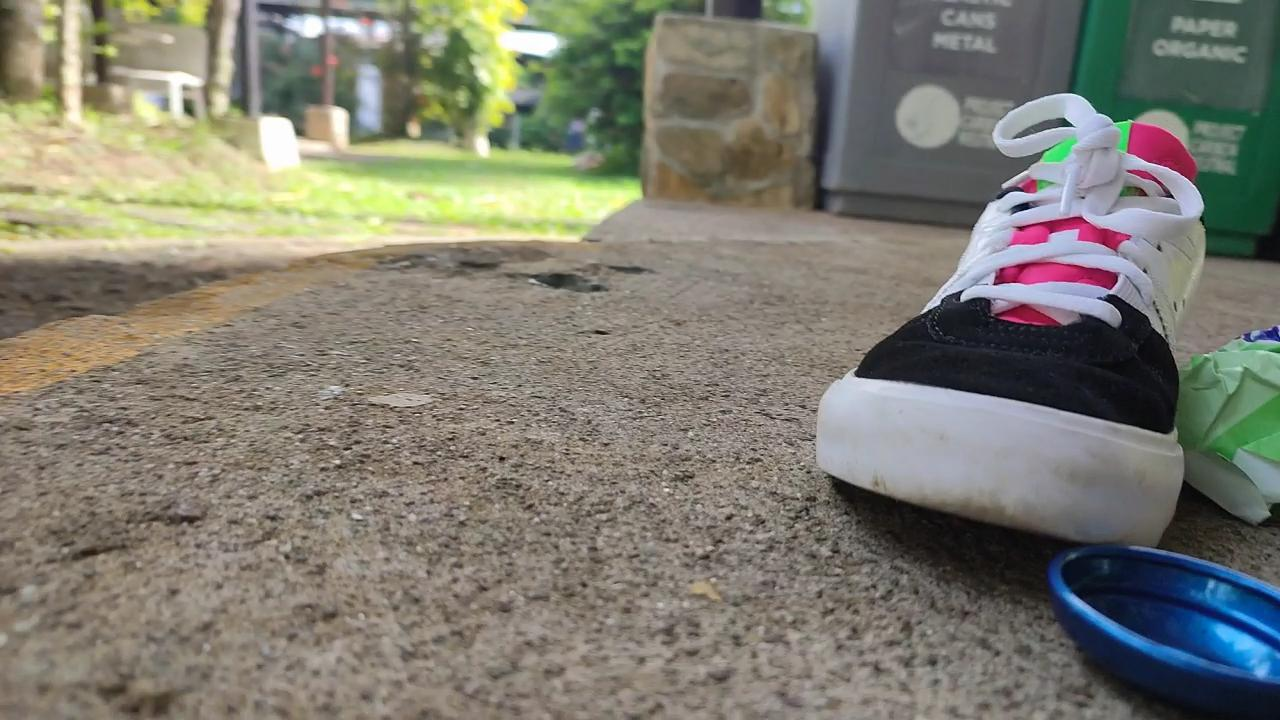Paper: (1171, 292, 1280, 528)
